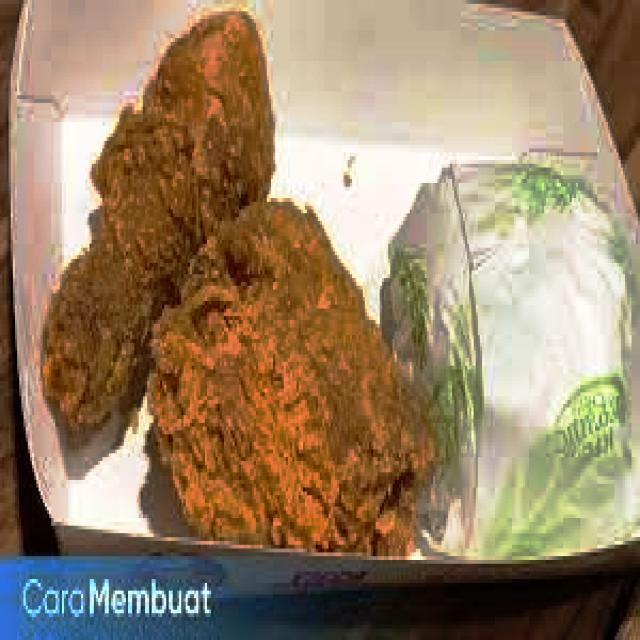fried_chicken: (38, 8, 280, 450), (147, 198, 416, 556)
